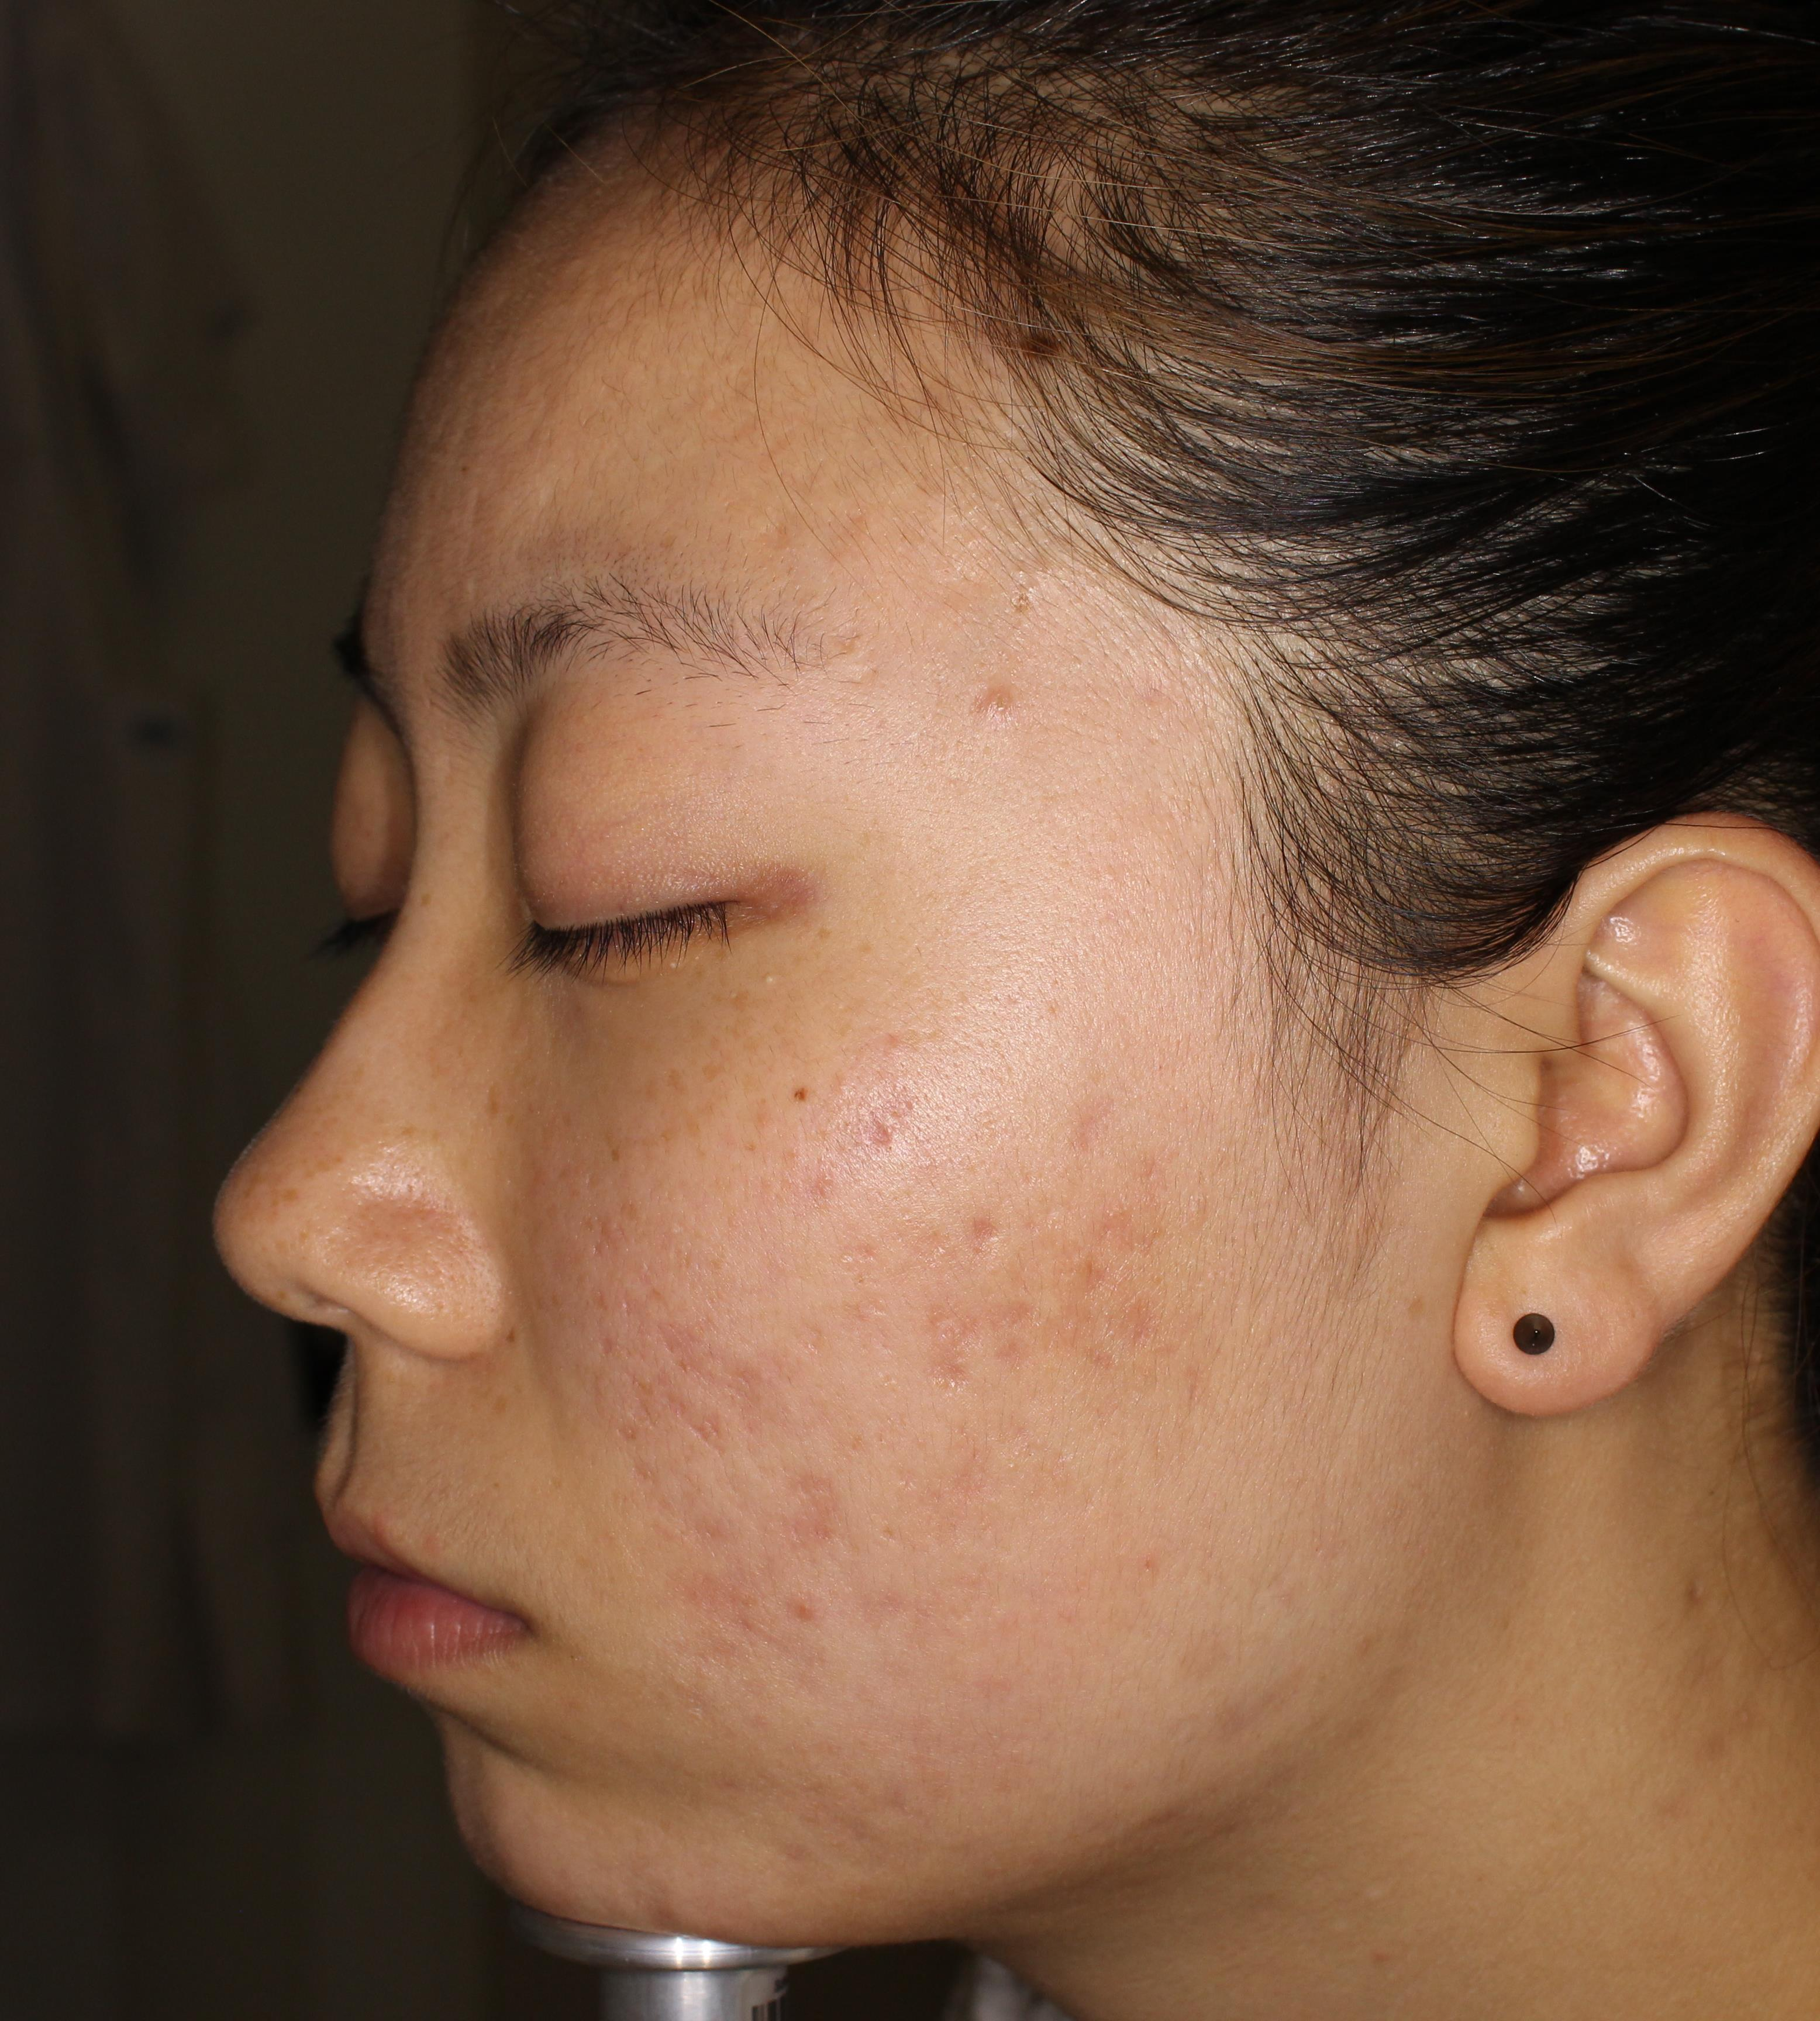fore: (740, 1450, 852, 1580), (1063, 1236, 1135, 1312), (690, 1586, 740, 1666)
